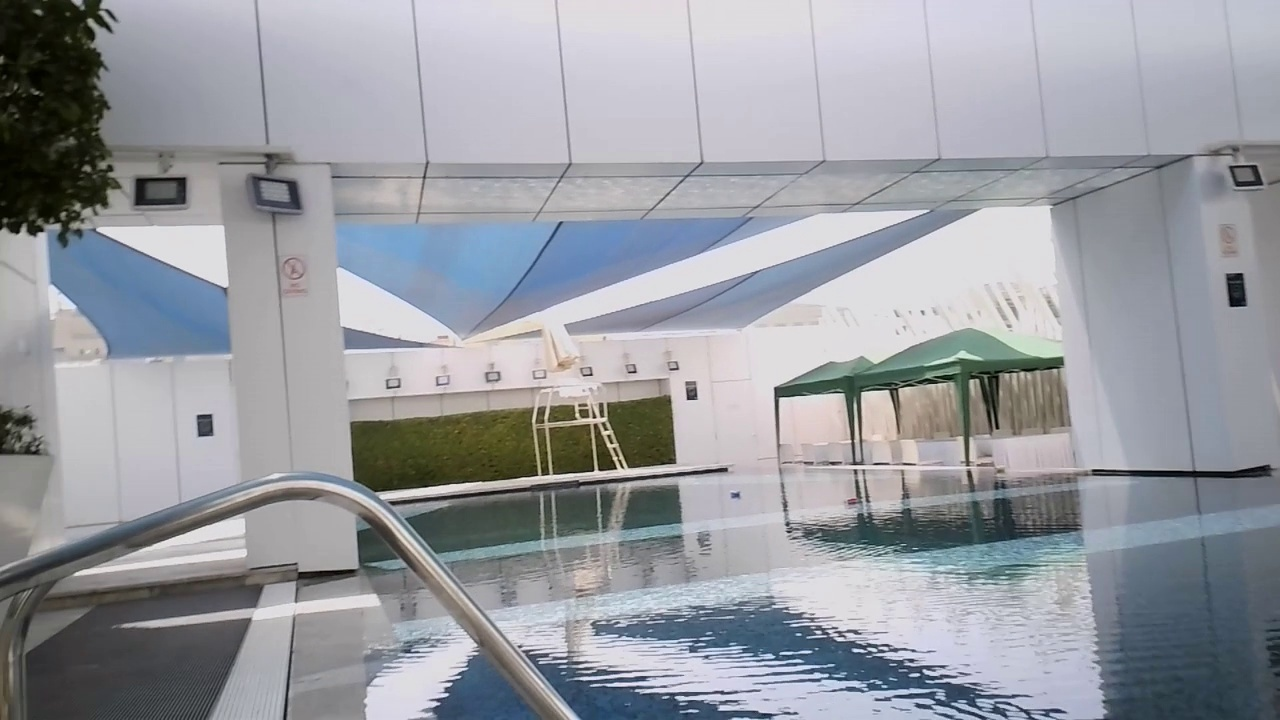debris: (843, 494, 862, 508), (990, 464, 1008, 476), (725, 487, 741, 500)
